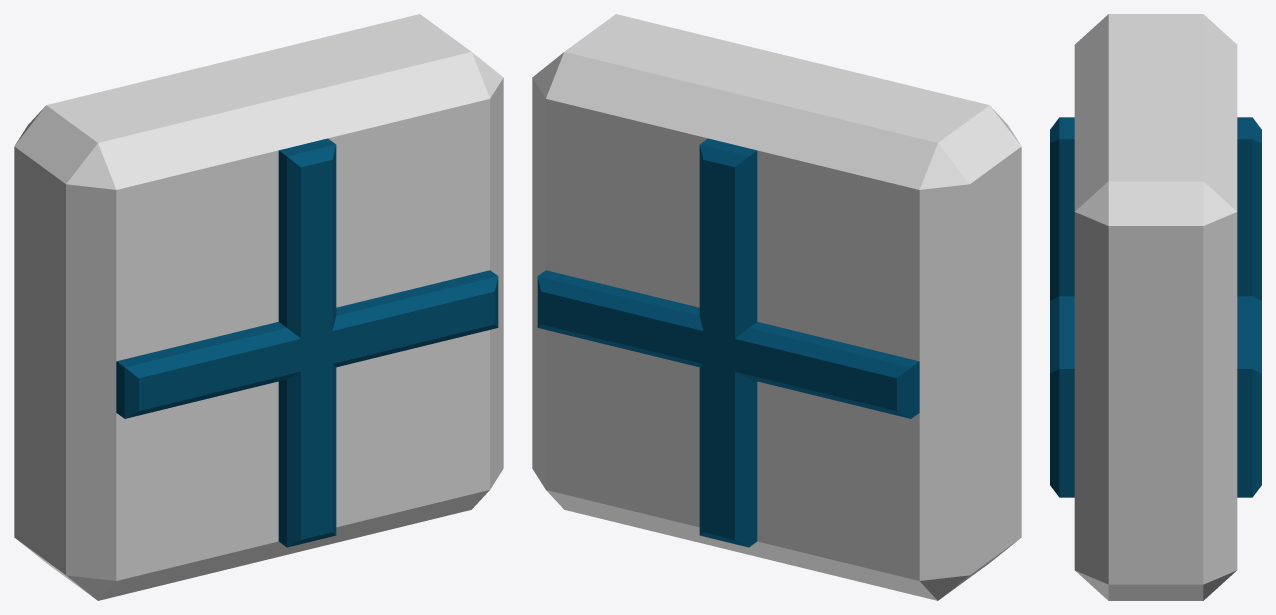
File: HealthPack.fbx
3 renders of one model, left to right at view 1: azimuth 30°, elevation 25°; view 2: azimuth 150°, elevation 25°; view 3: azimuth 270°, elevation 25°, orthographic. The views are drawn at different scales.
Visible parts, largest first — view 1: Cube; view 2: Cube; view 3: Cube.
Part boxes in pixels (x1,y1,x2,y2): Cube: (14, 14, 503, 600); Cube: (532, 14, 1021, 600); Cube: (1050, 14, 1261, 600).
Size of the model in its own units: 84.84 by 84.84 by 38.82.
